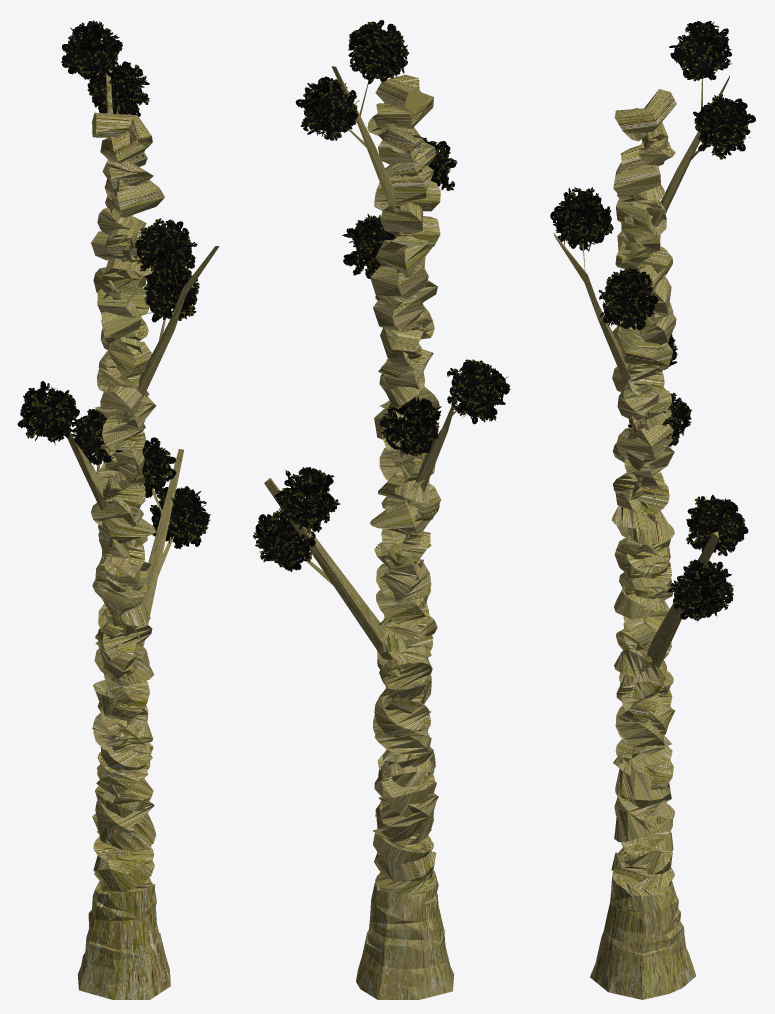
File: deadwood_snag_v02_LOD1.fbx
3 renders of one model, left to right at view 1: azimuth 30°, elevation 25°; view 2: azimuth 150°, elevation 25°; view 3: azimuth 270°, elevation 25°, orthographic. The views are drawn at different scales.
Parts seen in each view (by area): view 1: deadwood_snag_v02_LOD1; view 2: deadwood_snag_v02_LOD1; view 3: deadwood_snag_v02_LOD1.
Boxes of the visible parts, x1,y1,x2,y2 form: deadwood_snag_v02_LOD1: (17,20,219,999); deadwood_snag_v02_LOD1: (253,20,510,999); deadwood_snag_v02_LOD1: (550,21,755,999).
Size of the model in its own units: 483 by 407 by 1997.
Materials: 2 (2 with a texture image).
